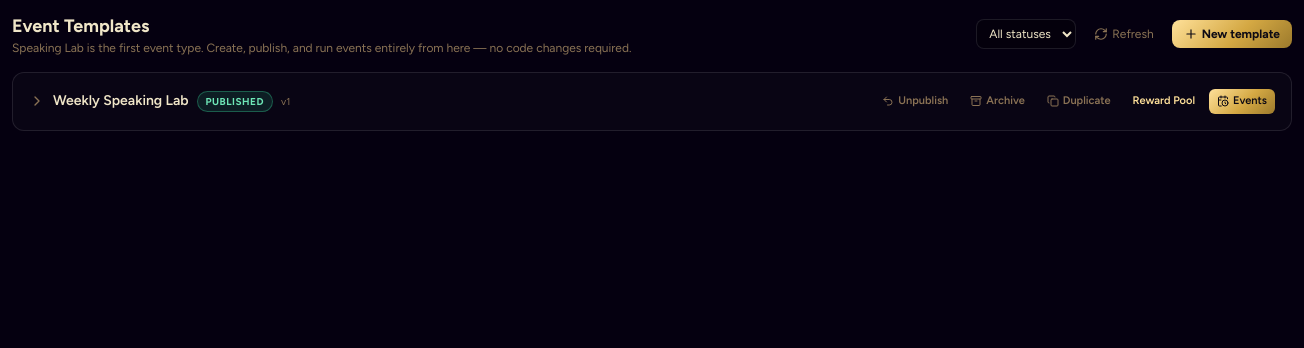
it: event row shows the reward pool balance in plain language
Click the button "Events".
click(1242, 101)  # box [1209,89,1275,114]
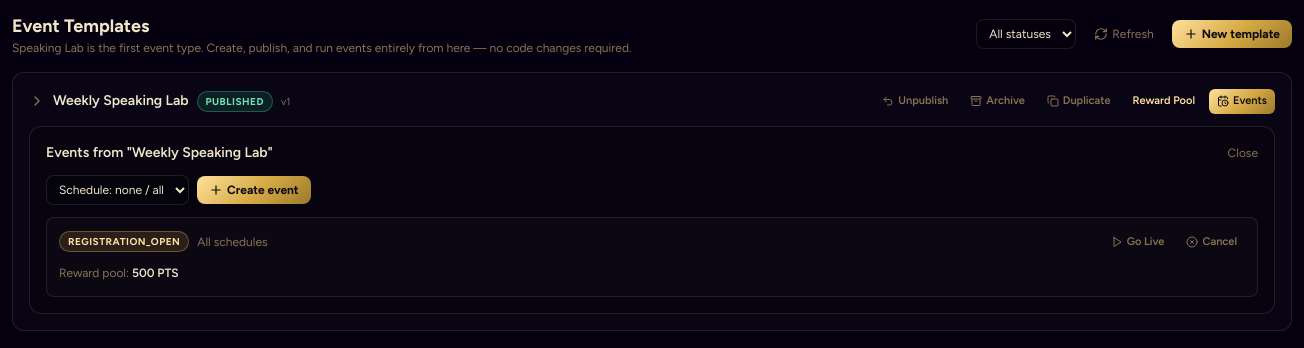
Expected: the element with test id "event-pool-evt-3" does not show "funding source", [59,266,179,280]
Now the element with test id "event-pool-evt-3" shows "Reward pool:", box [59,266,132,280]
Now the element with test id "event-pool-evt-3" shows "500 PTS", box [59,266,179,280]
